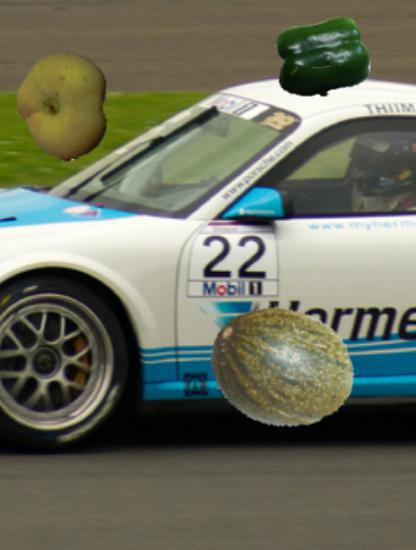Melon: (213, 297, 351, 435)
Peach: (10, 52, 119, 161)
Pepper: (273, 7, 372, 106)
